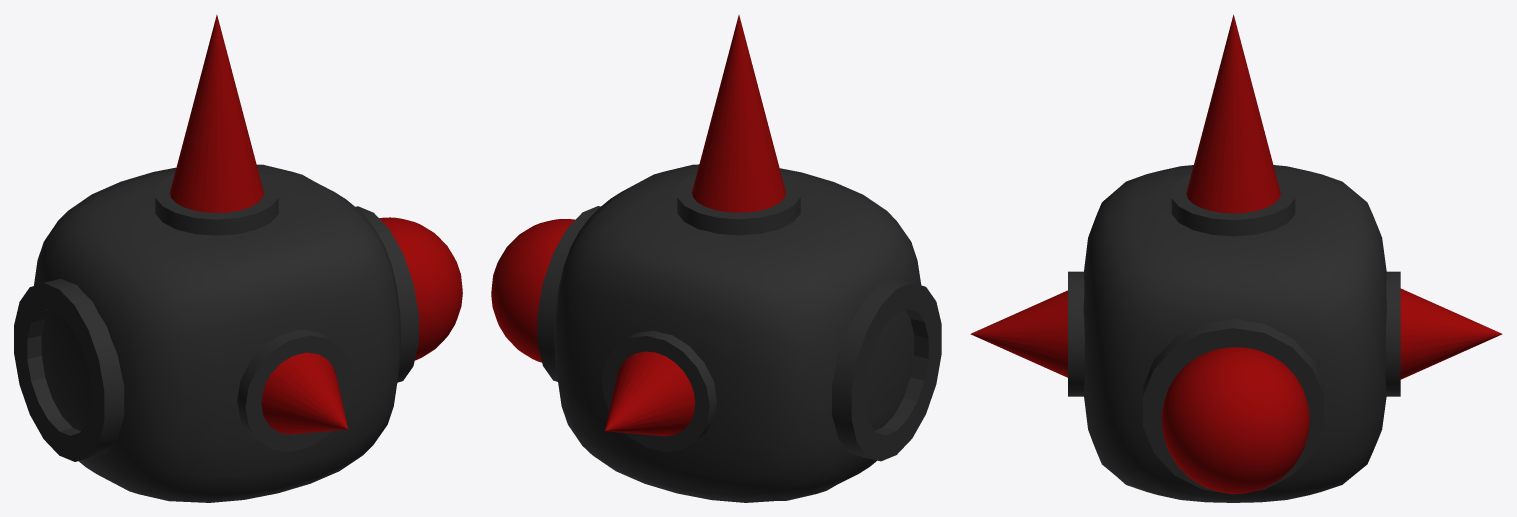
The model's file is BossBody.FBX.
3 renders of one model, left to right at view 1: azimuth 30°, elevation 25°; view 2: azimuth 150°, elevation 25°; view 3: azimuth 270°, elevation 25°, orthographic.
Parts seen in each view (by area): view 1: Sphere069; view 2: Sphere069; view 3: Sphere069.
Part boxes in pixels (x1,y1,x2,y2): Sphere069: (14, 15, 462, 502); Sphere069: (491, 15, 941, 502); Sphere069: (970, 14, 1502, 502).
Size of the model in its own units: 158 by 169 by 184.
